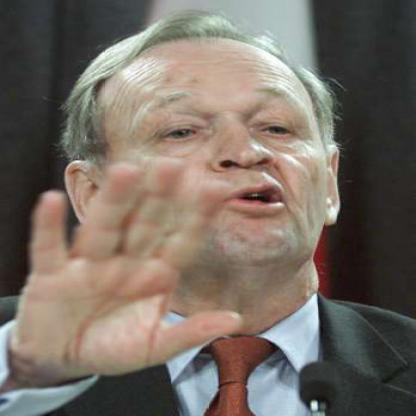face: (97, 31, 347, 285)
